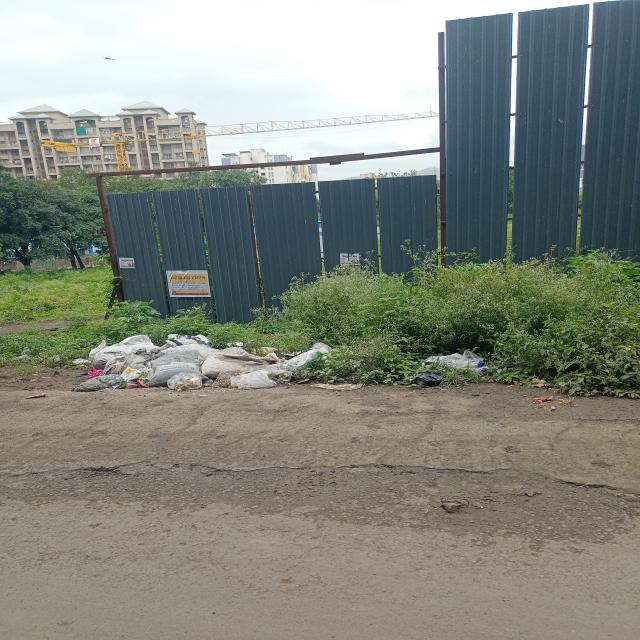garbage: (81, 335, 338, 393)
